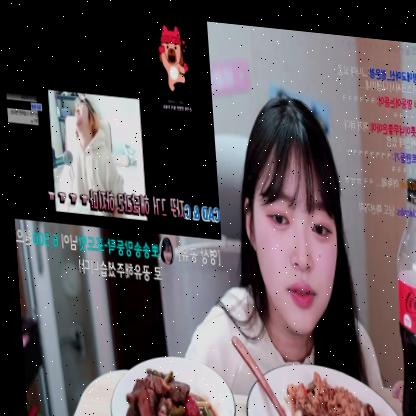donation: (0, 0, 221, 286)
streamer: (161, 77, 381, 402)
